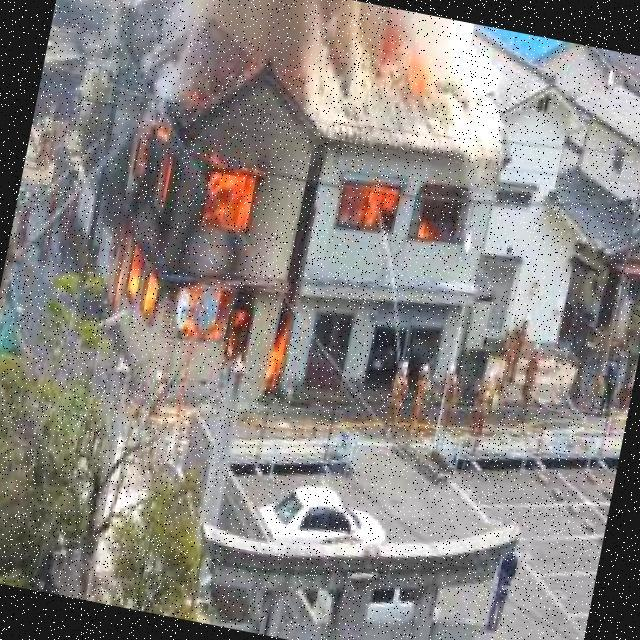Fire: (61, 98, 339, 420), (362, 6, 460, 125), (330, 171, 455, 254)
